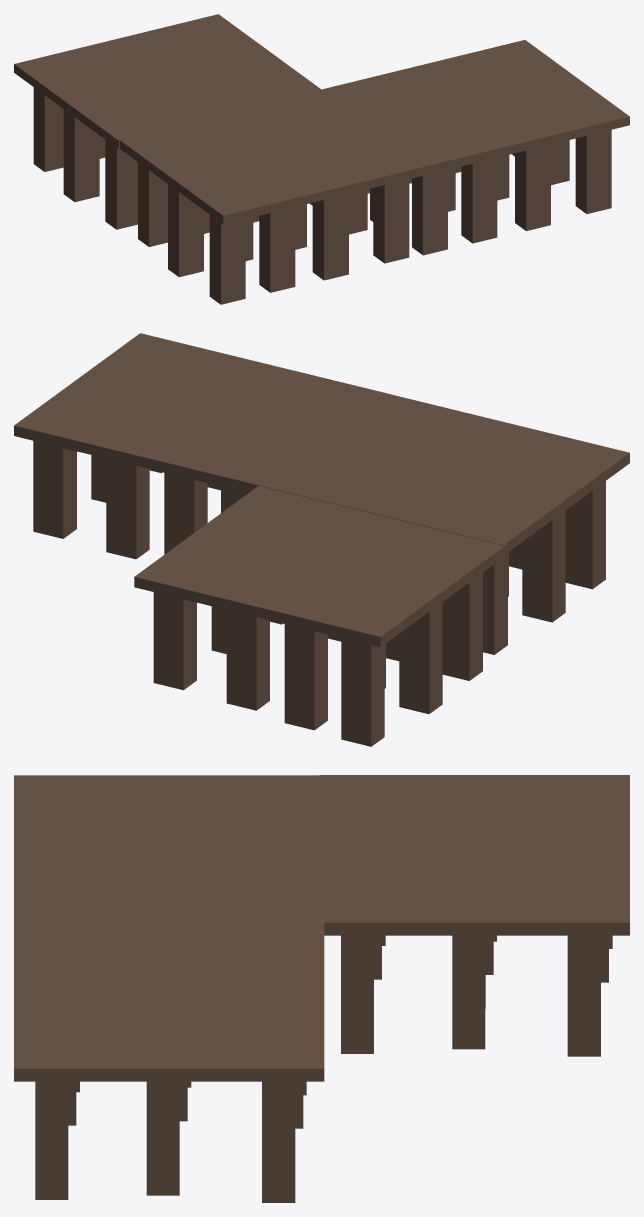
File: Broken_Building.glb
The picture shows the model from 3 angles, top to bottom: view 1: azimuth 30°, elevation 25°; view 2: azimuth 150°, elevation 25°; view 3: azimuth 270°, elevation 25°; orthographic projection. The views are drawn at different scales.
Visible parts, largest first — view 1: Cube.010; view 2: Cube.010; view 3: Cube.010.
Boxes of the visible parts, x1,y1,x2,y2 form: Cube.010: [14, 14, 629, 304]; Cube.010: [14, 333, 629, 746]; Cube.010: [14, 775, 629, 1202].
Size of the model in its own units: 27.94 by 6.53 by 24.72.
